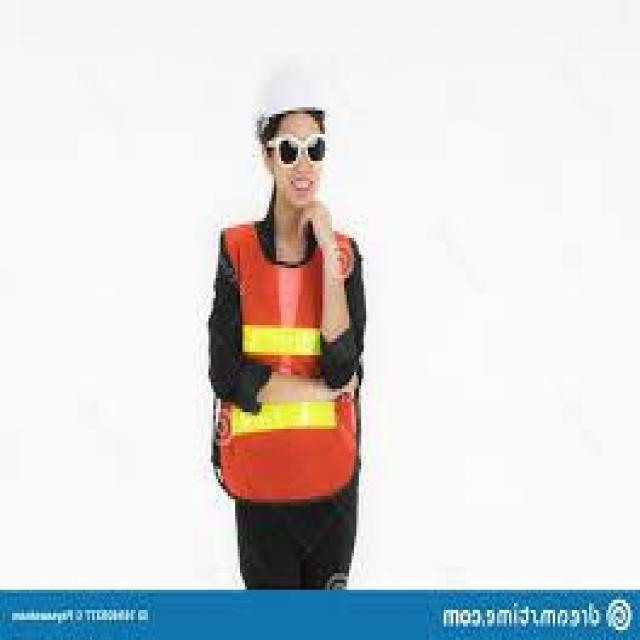Reflective-Jacket: (211, 218, 364, 502)
Safety-Helmet: (245, 47, 349, 134)
